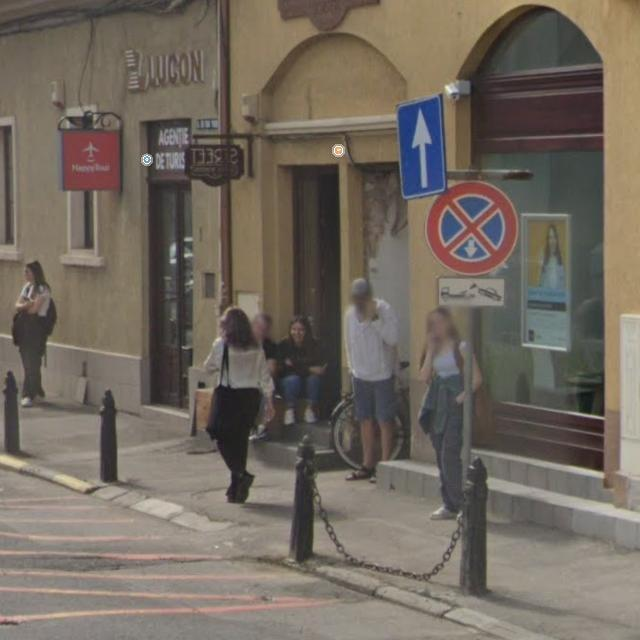forb_waiting: (426, 181, 520, 275)
